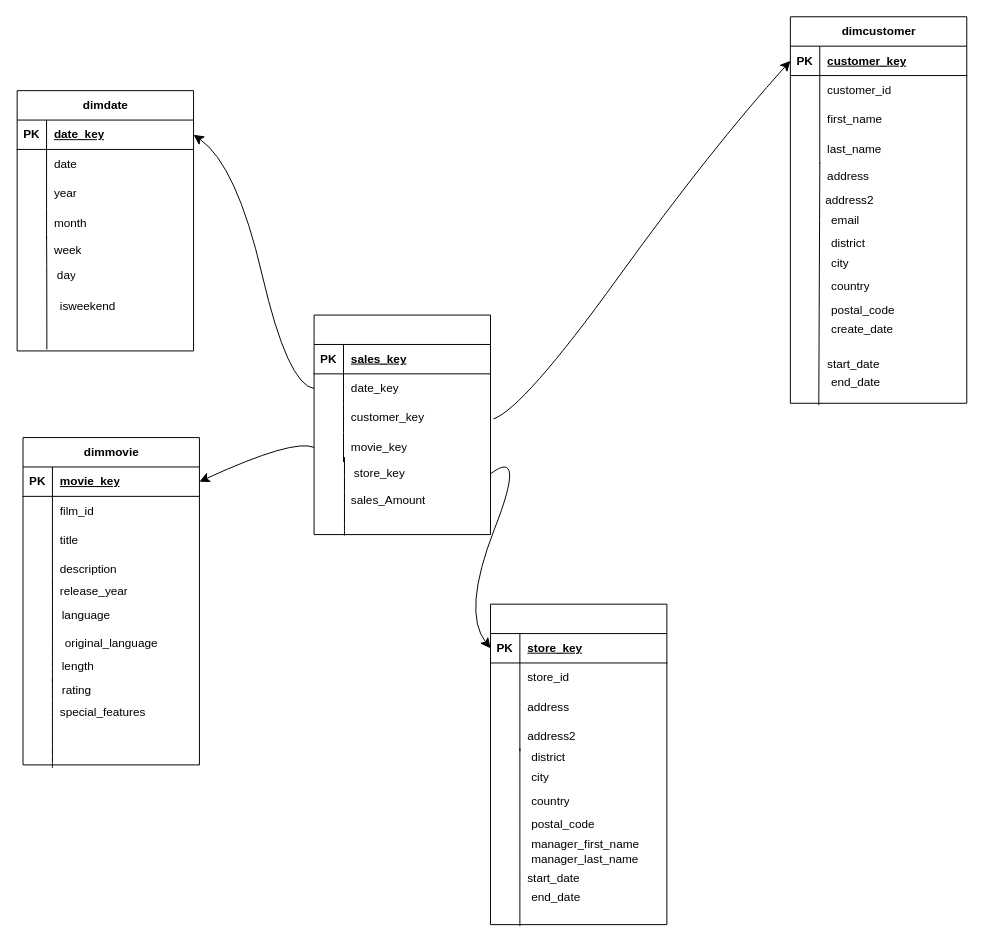
The diagram is 988 pixels wide and 945 high, and some of its shapes have lost their labels. Here are the shapes that lost their labels. From the top down, the box of each, then its label:
(313, 314, 490, 535): factsales
(490, 603, 667, 925): dimstore
